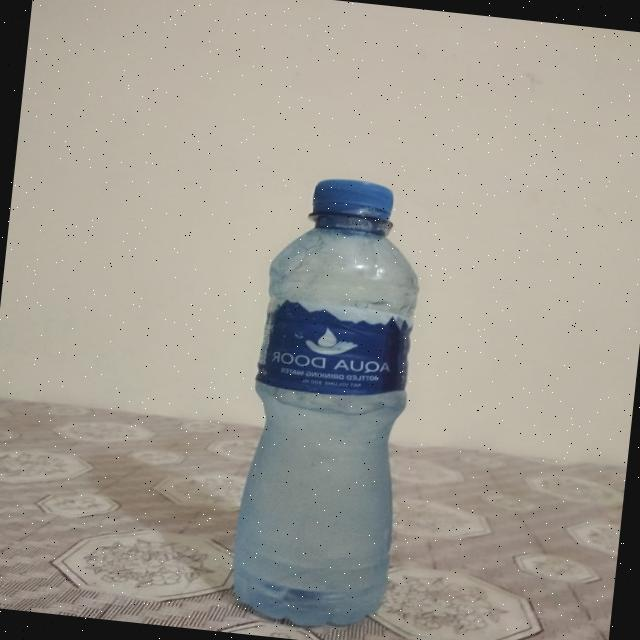bottle: (228, 172, 431, 632)
cap: (310, 176, 396, 222)
label: (253, 296, 417, 404)
